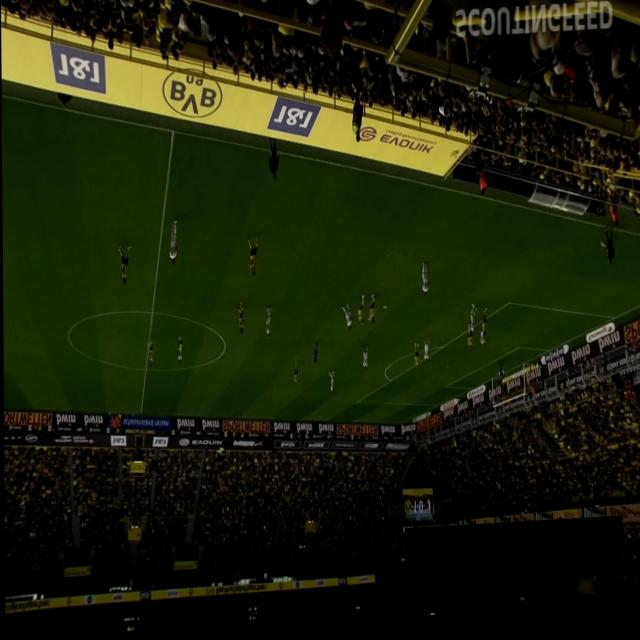goalkeeper: (496, 363, 504, 391)
player: (116, 245, 131, 286), (246, 236, 259, 279), (167, 220, 178, 267), (340, 306, 352, 334), (420, 267, 428, 302), (356, 297, 364, 330), (468, 308, 476, 339), (479, 312, 487, 343), (367, 297, 375, 328), (236, 302, 243, 336), (465, 326, 472, 356), (265, 308, 271, 340), (360, 348, 367, 374), (176, 336, 182, 366), (422, 338, 428, 366), (412, 346, 418, 374), (478, 325, 484, 353), (291, 364, 297, 390), (147, 338, 152, 368), (327, 374, 333, 395)
referee: (599, 234, 613, 272), (117, 411, 124, 434), (311, 343, 317, 368)
